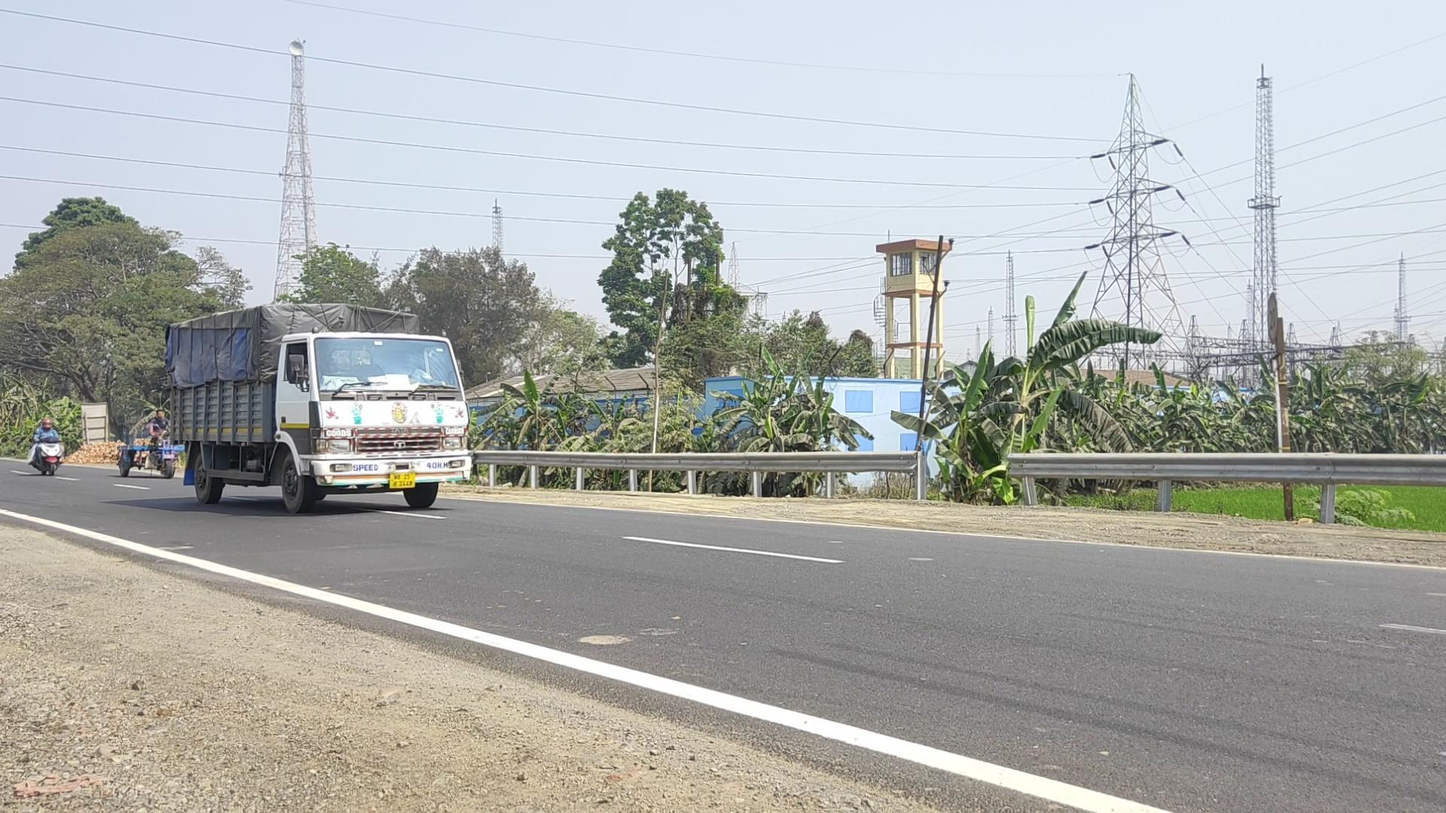bike: (29, 418, 66, 477)
truck: (169, 303, 472, 515)
